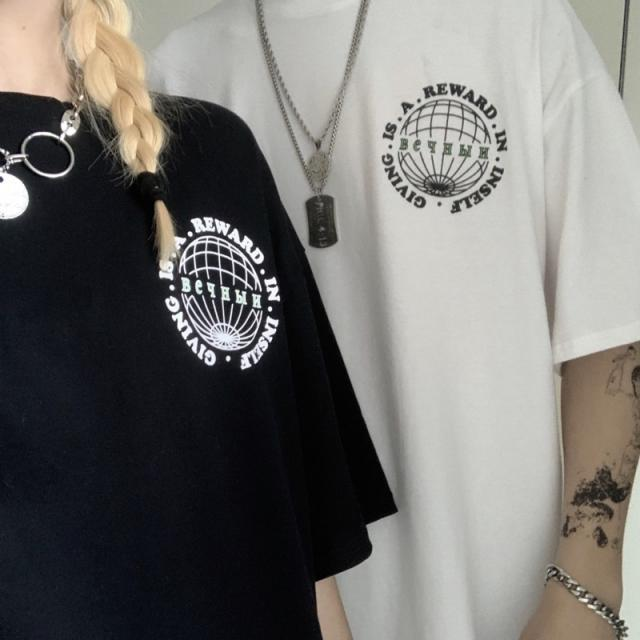Shirt: (135, 0, 640, 639)
